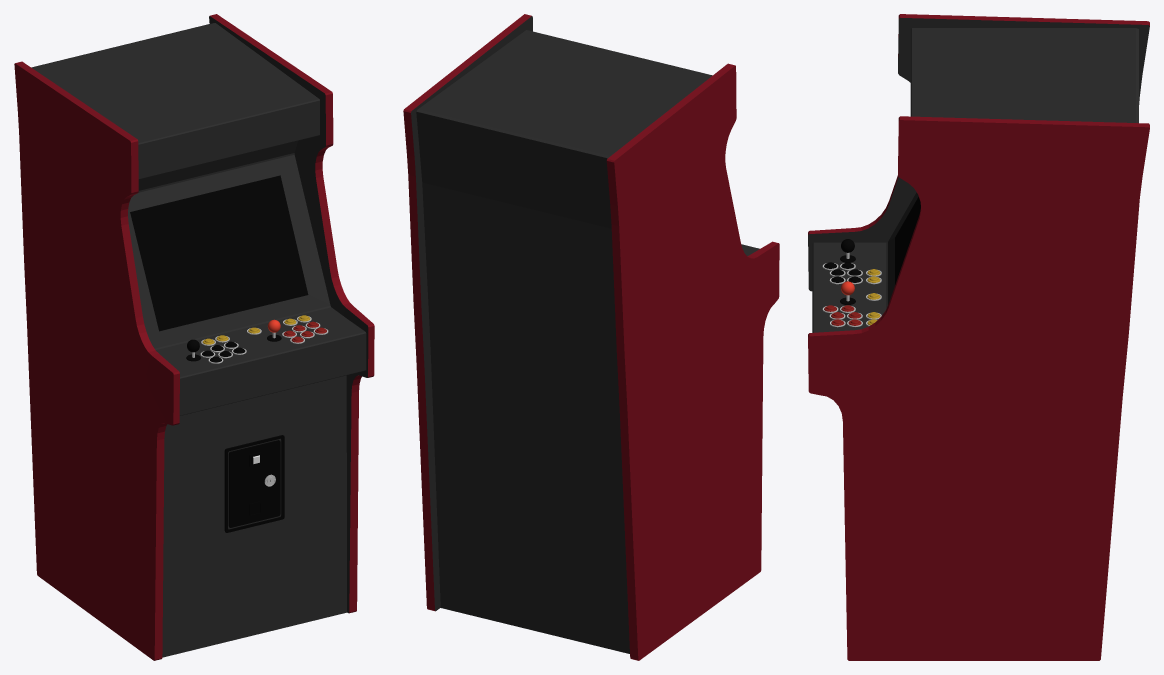
File: Tower_Metal_slug.fbx
The picture shows the model from 3 angles, left to right: view 1: azimuth 30°, elevation 25°; view 2: azimuth 150°, elevation 25°; view 3: azimuth 270°, elevation 25°; orthographic projection. The views are drawn at different scales.
Parts seen in each view (by area): view 1: Cube, Cube.001, Cube.003, Cube.002; view 2: Cube, Cube.001; view 3: Cube.001, Cube.
Part boxes in pixels (x1,y1,x2,y2): Cube: [31, 23, 366, 657]; Cube.001: [14, 14, 374, 660]; Cube.003: [228, 440, 280, 527]; Cube.002: [224, 435, 284, 532]; Cube: [416, 30, 759, 653]; Cube.001: [403, 14, 779, 660]; Cube.001: [808, 14, 1149, 660]; Cube: [812, 28, 1138, 332].
Bounding box in the file's own units: 212 × 504 × 288.
